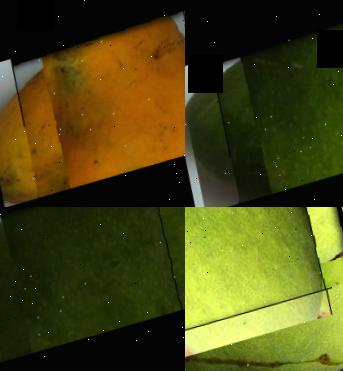Ripe: (4, 0, 185, 199)
Unripe: (0, 207, 185, 363), (203, 0, 343, 204), (185, 207, 343, 343)
